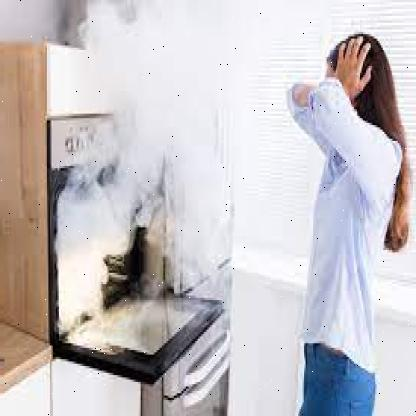smoke: (58, 5, 236, 336)
